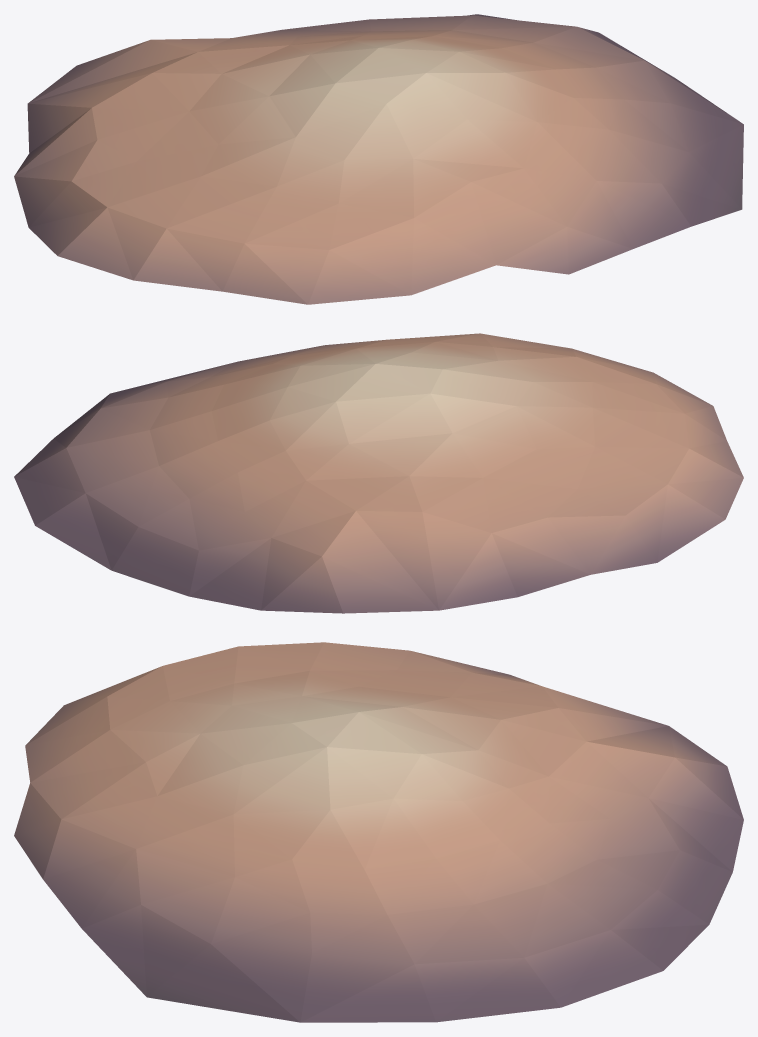
File: Top_04_02.fbx
The picture shows the model from 3 angles, top to bottom: view 1: azimuth 30°, elevation 25°; view 2: azimuth 150°, elevation 25°; view 3: azimuth 270°, elevation 25°; orthographic projection. The views are drawn at different scales.
Visible parts, largest first — view 1: Top_04; view 2: Top_04; view 3: Top_04.
Part boxes in pixels (x1,y1,x2,y2): Top_04: (14, 14, 743, 304); Top_04: (14, 333, 743, 613); Top_04: (14, 642, 743, 1022).
Bounding box in the file's own units: 1.97 × 0.36 × 1.76.
